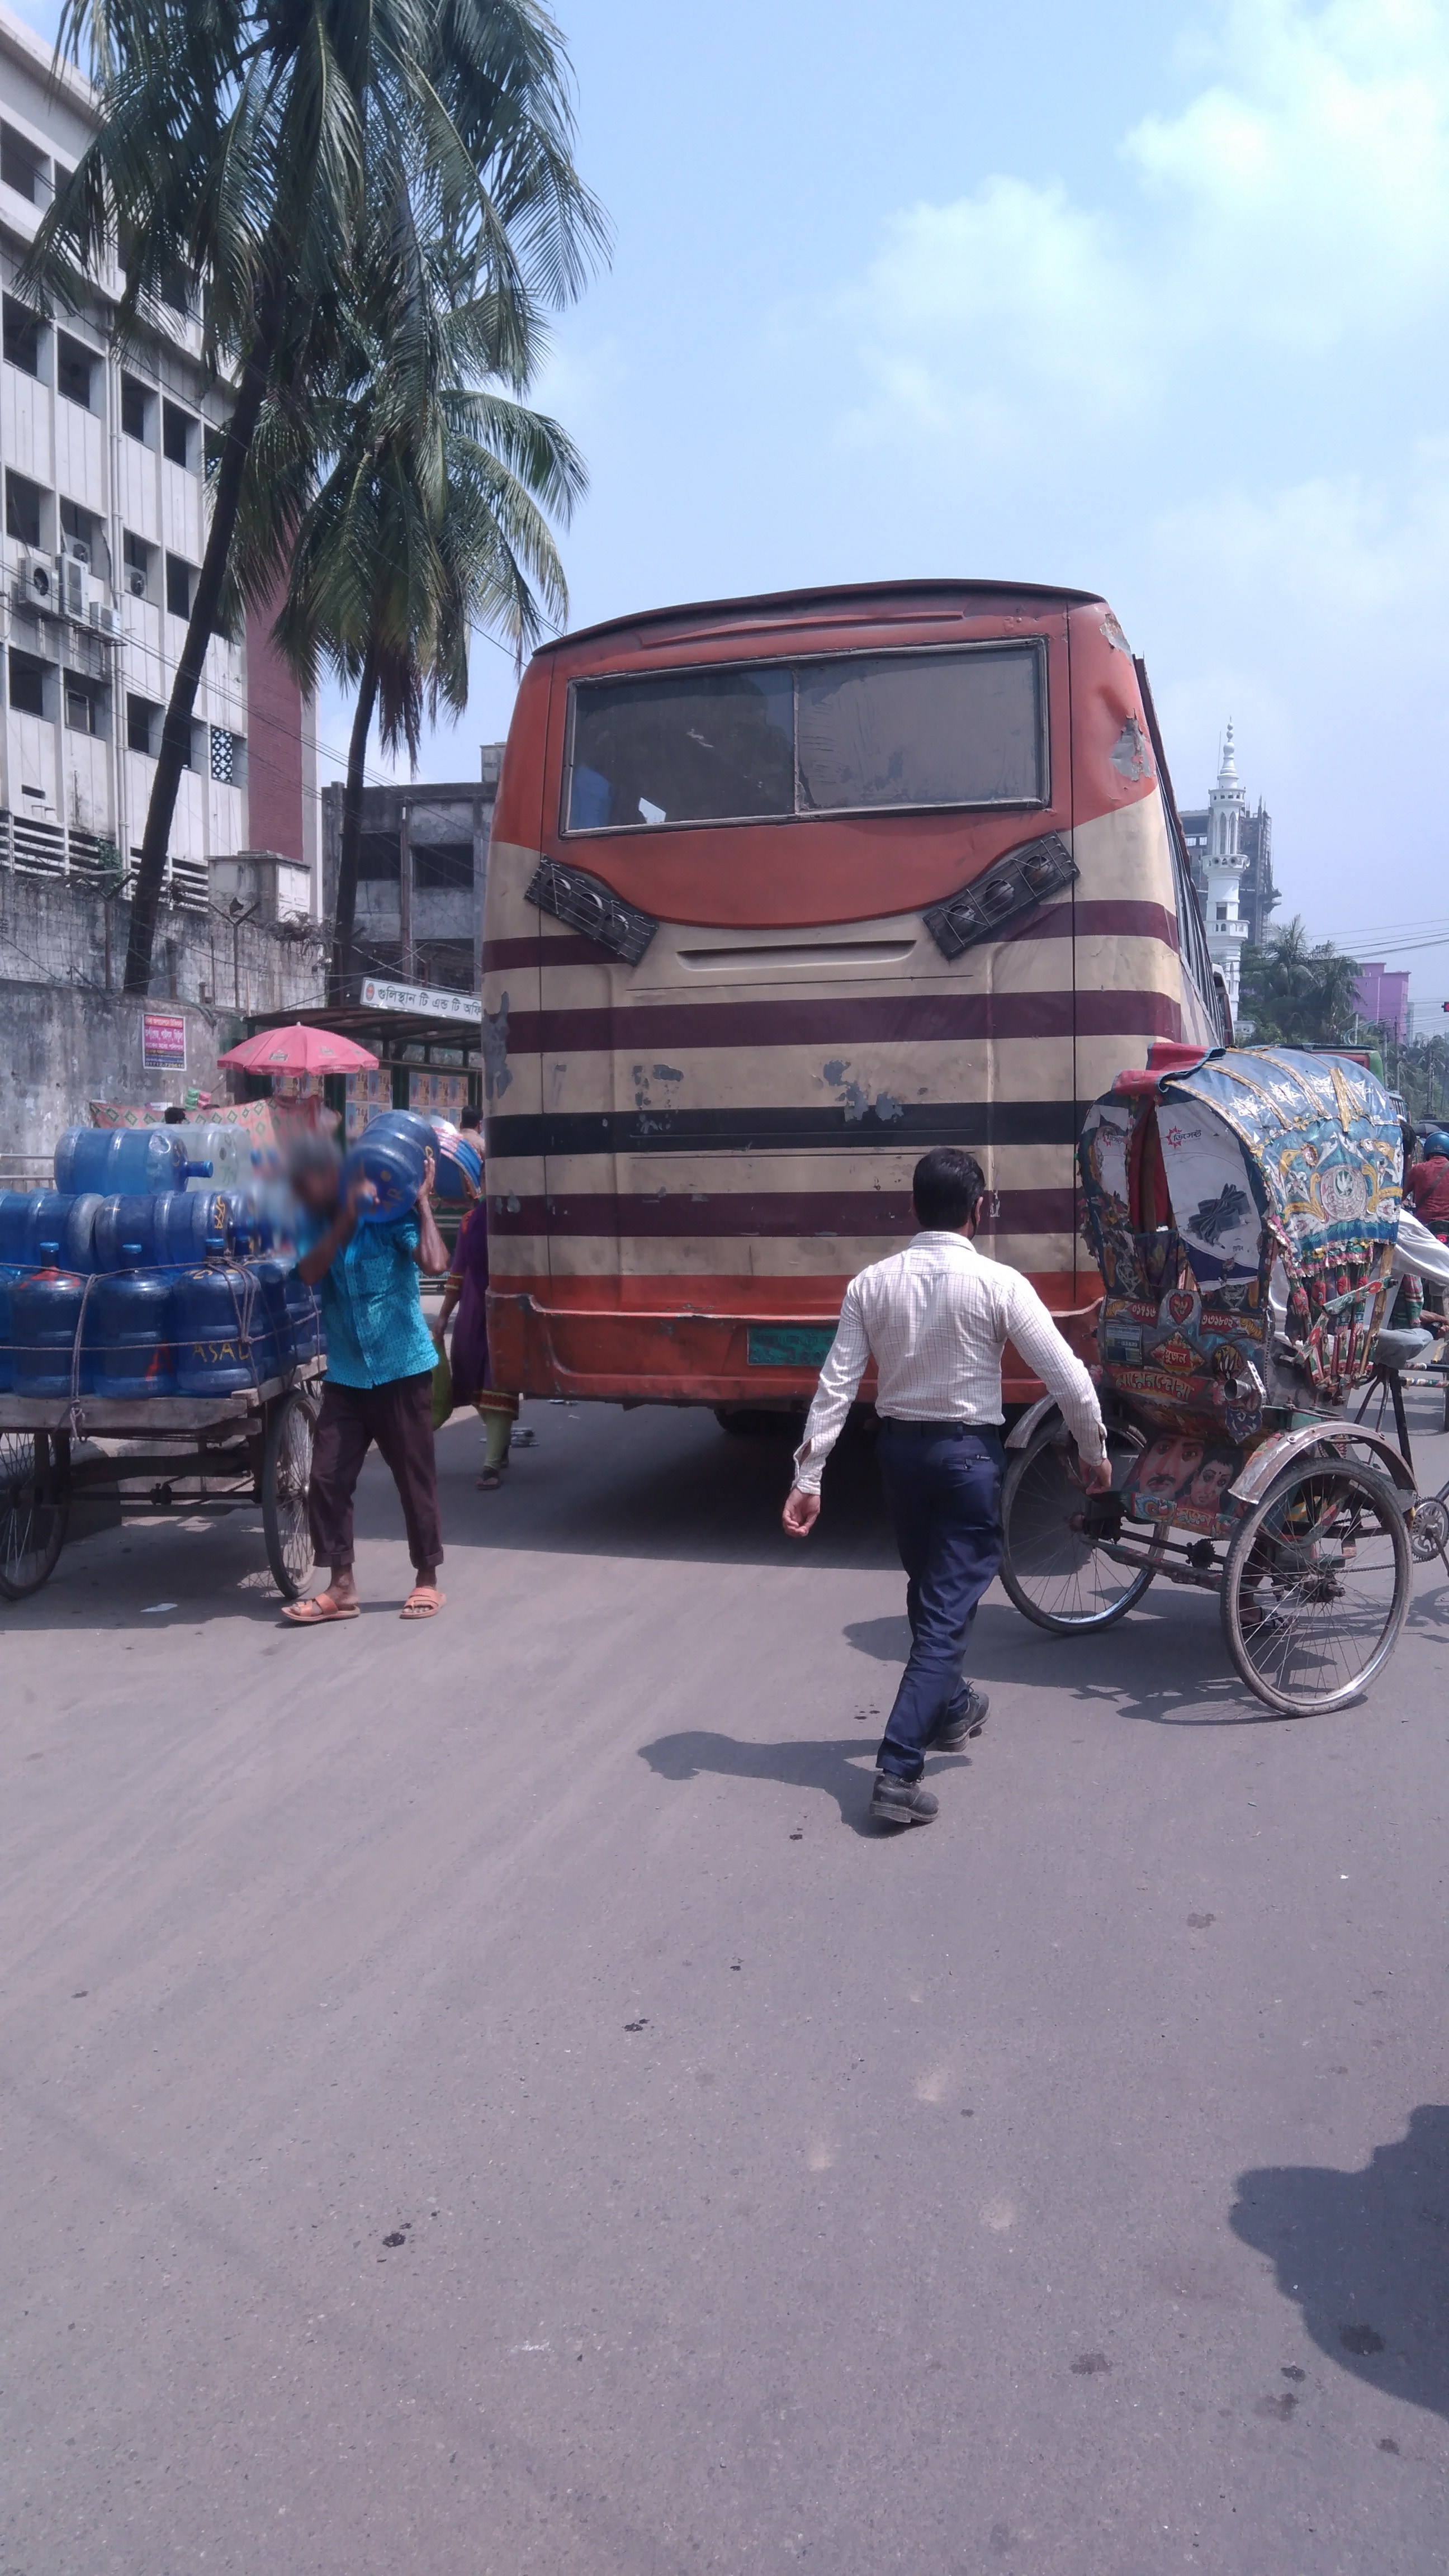bus: (455, 536, 1263, 1495)
rickshaw: (977, 1019, 1449, 1736)
van: (4, 1327, 359, 1626)
